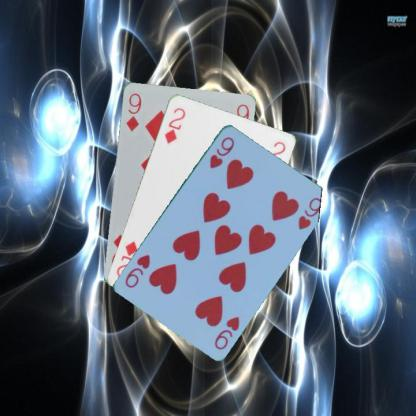2d: (161, 105, 187, 145)
9d: (123, 90, 143, 132)
9h: (211, 313, 241, 351), (207, 134, 236, 170)
